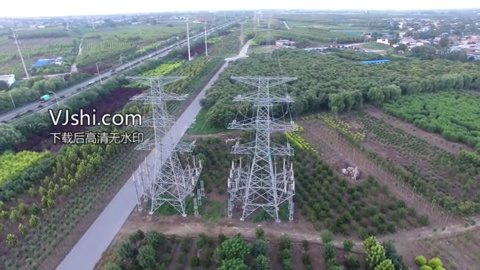tower_body: (121, 71, 204, 218), (224, 72, 302, 227)
tower_foot: (229, 179, 297, 224), (135, 171, 199, 215)
tower_head: (229, 74, 300, 104), (124, 74, 192, 103)
